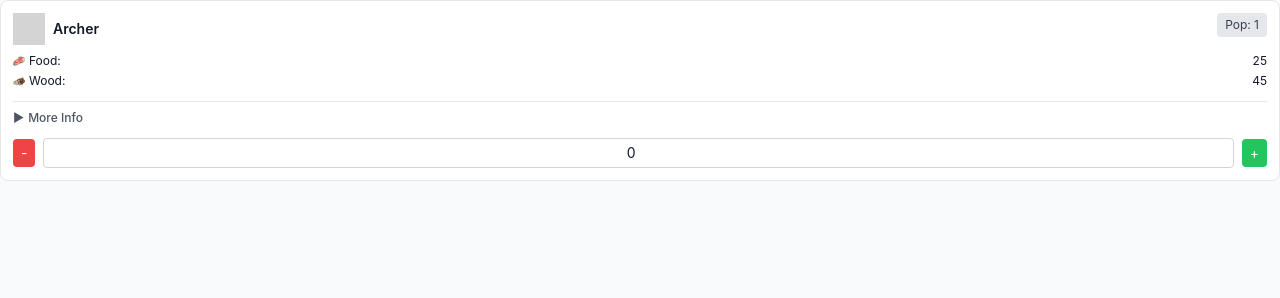
UnitCard › More Info section (consolidated counters and stats) › should expand when toggle button is clicked
Step 1. Click the text "More Info" → (56,118), box 28,110 -> 83,126
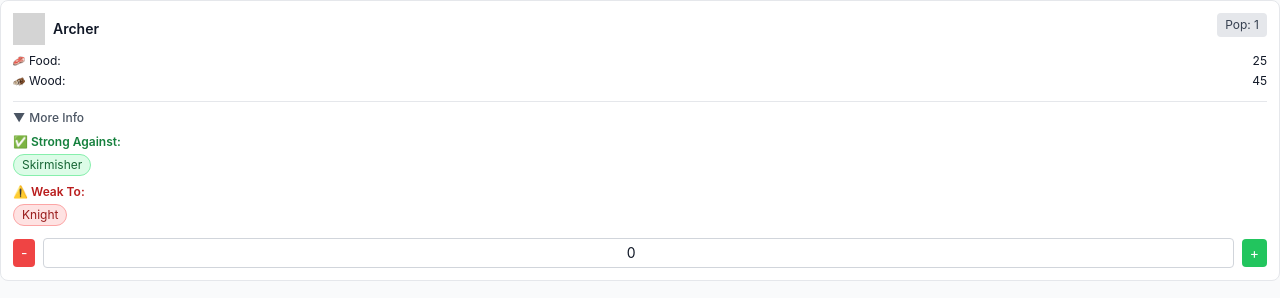
Now the text "✅ Strong Against:" is shown, box 13,134 -> 121,149
Now the text "⚠️ Weak To:" is shown, box 13,184 -> 85,199
